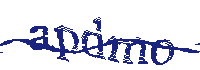a: (27, 23, 51, 51)
d: (81, 16, 108, 63)
m: (107, 36, 148, 65)
o: (152, 36, 174, 66)
p: (55, 21, 78, 63)
